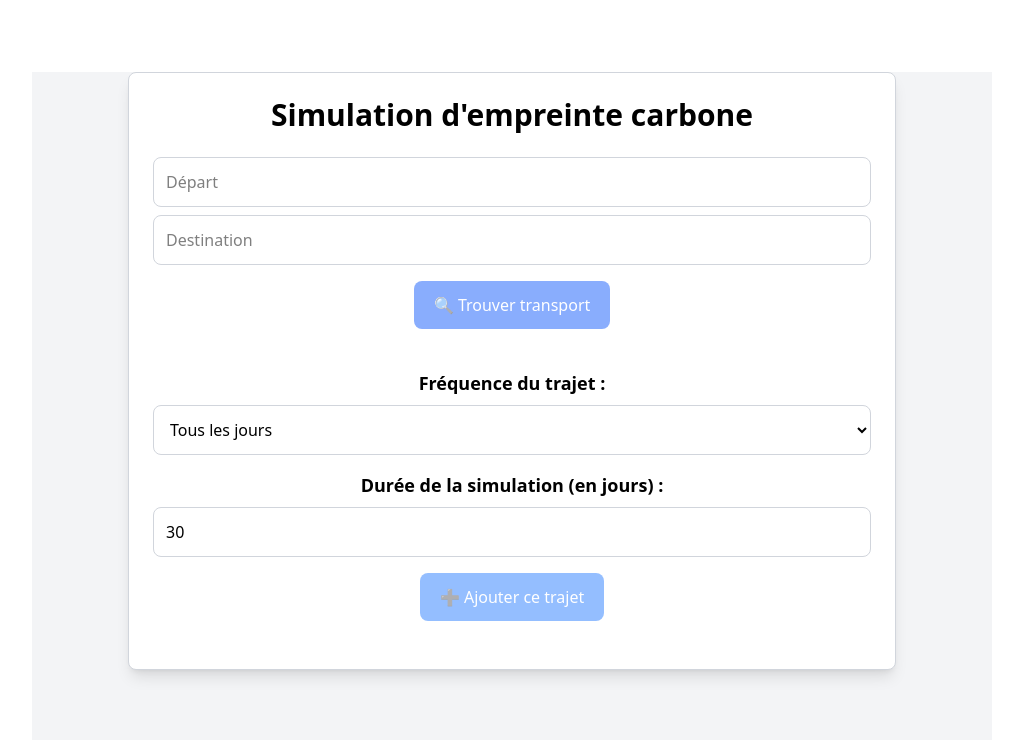
Test case: Simulation Component › fetches and displays transport options
Step 1. Type "Lyon" into the field with placeholder "Départ" → [512, 182], box [153, 157, 871, 207]
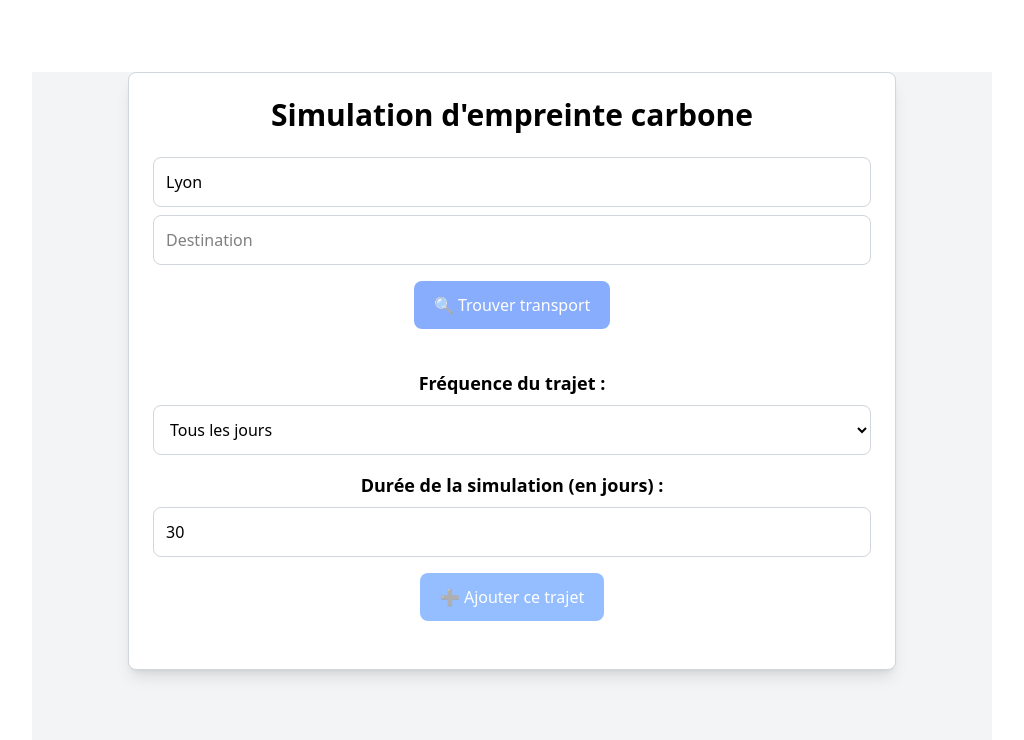
Step 2. Type "Paris" into the field with placeholder "Destination" → [512, 240], box [153, 215, 871, 265]
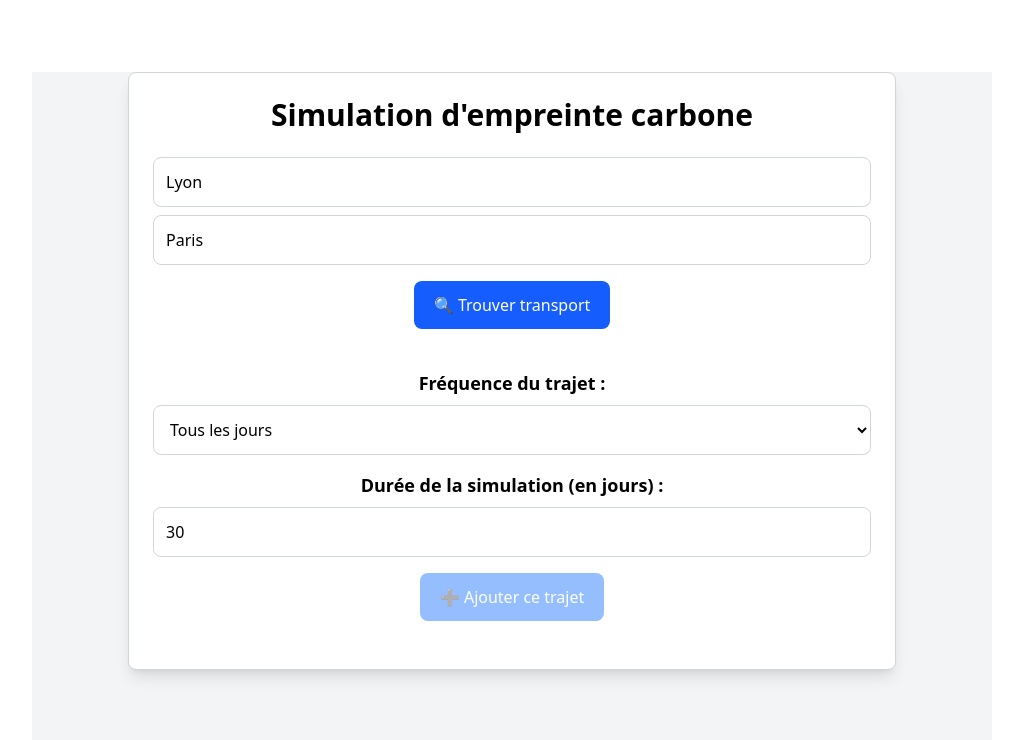
Step 3. Click the button "🔍 Trouver transport" → [512, 305], box [414, 281, 610, 329]
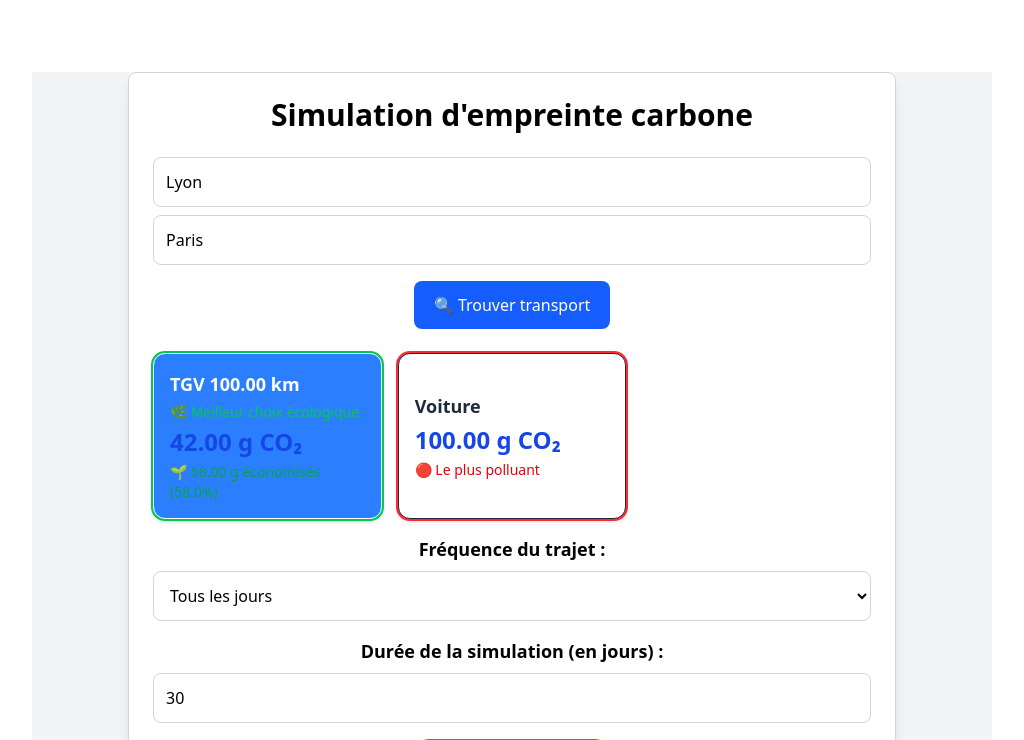
Expected: the text "TGV 100.00 km" is shown, [170, 372, 300, 396]
